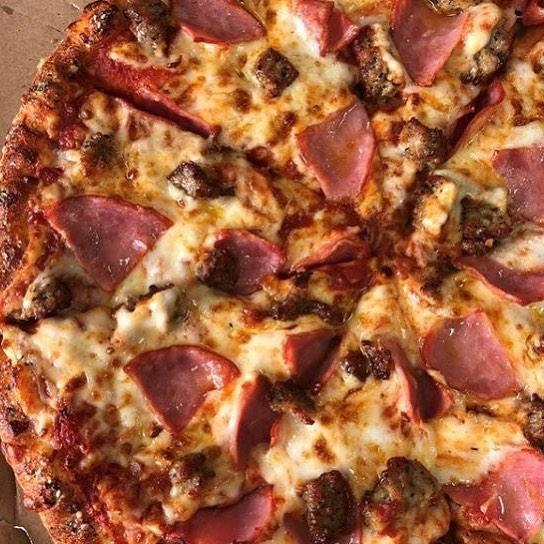Cheese: (294, 388, 419, 452), (188, 60, 273, 143), (37, 322, 112, 380), (116, 298, 240, 331), (125, 128, 175, 181)
Chicken: (371, 457, 447, 544), (293, 468, 356, 541), (351, 31, 396, 92), (458, 194, 508, 246), (472, 22, 513, 83), (125, 2, 176, 49), (164, 161, 229, 196), (343, 340, 398, 380), (253, 50, 297, 94), (22, 277, 66, 319), (195, 246, 238, 287), (77, 132, 117, 175)
Ham: (41, 190, 173, 296), (120, 342, 241, 433), (439, 444, 544, 544), (288, 99, 383, 204), (422, 312, 518, 407), (388, 0, 470, 82), (200, 224, 286, 297), (176, 485, 279, 544), (482, 140, 544, 234), (166, 0, 267, 48), (228, 372, 275, 471), (275, 326, 355, 384), (295, 234, 380, 288), (460, 252, 544, 303), (136, 86, 212, 137), (292, 1, 358, 52), (516, 2, 544, 50)
Pizza: (0, 1, 544, 544)
